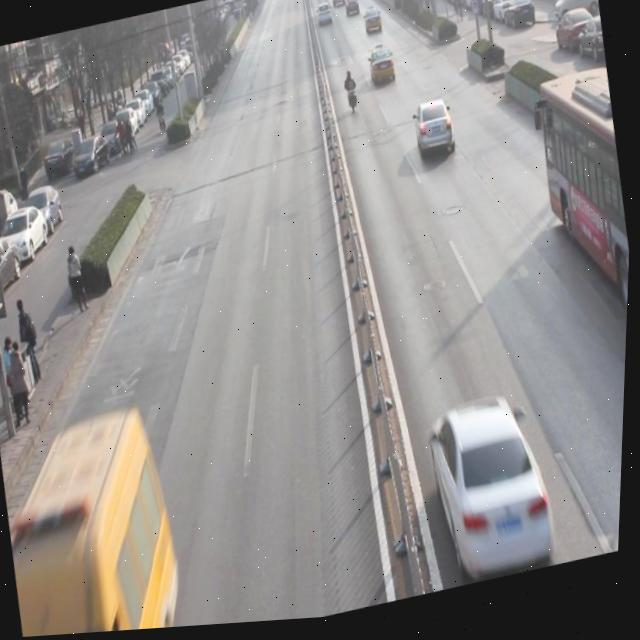car: (424, 390, 566, 581), (412, 97, 462, 173), (367, 49, 400, 100), (362, 10, 387, 43), (315, 4, 334, 34), (344, 0, 362, 26)
truck: (0, 400, 198, 639)
van: (525, 70, 637, 349)
